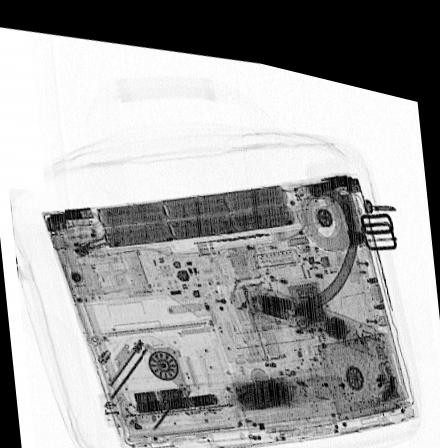Baton: (95, 348, 348, 424), (231, 266, 392, 340)
